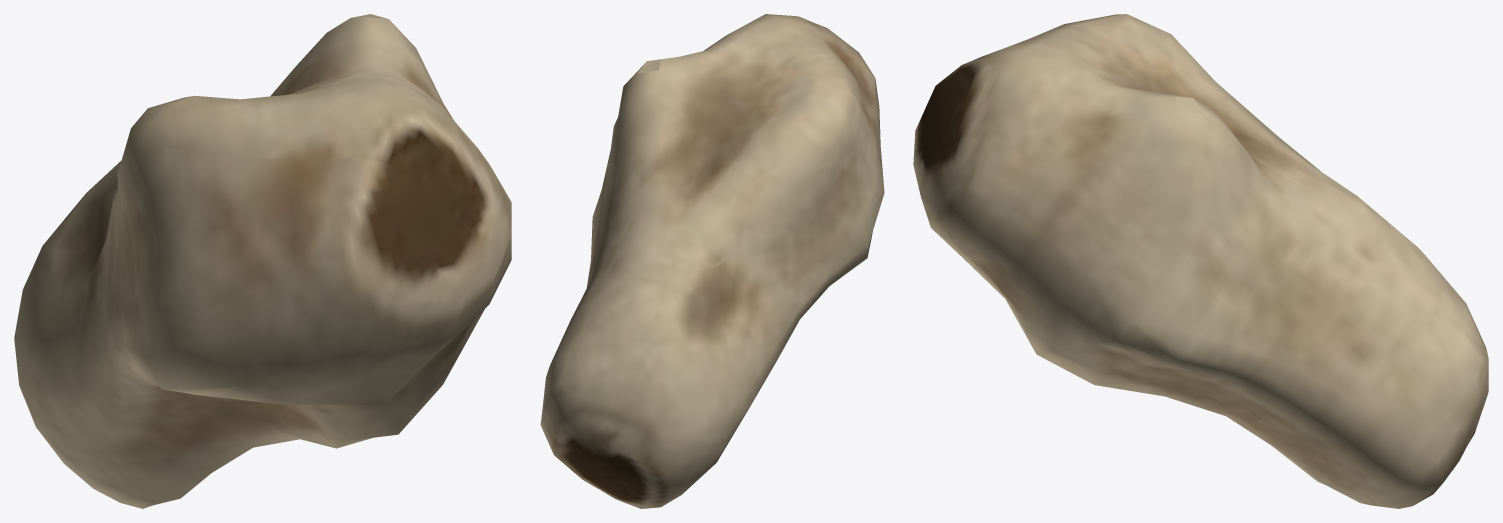
Rendered from Caudal_Vertebrae3.glb.
The picture shows the model from 3 angles, left to right: view 1: azimuth 30°, elevation 25°; view 2: azimuth 150°, elevation 25°; view 3: azimuth 270°, elevation 25°; orthographic projection. The views are drawn at different scales.
Visible parts, largest first — view 1: Caudal_Vertebrae_04; view 2: Caudal_Vertebrae_04; view 3: Caudal_Vertebrae_04.
Part boxes in pixels (bbox=[...]): Caudal_Vertebrae_04: bbox=[14, 14, 511, 508]; Caudal_Vertebrae_04: bbox=[540, 14, 884, 508]; Caudal_Vertebrae_04: bbox=[913, 14, 1488, 508].
Size of the model in its own units: 0.0238 by 0.0346 by 0.0394.
Materials: 1 (1 with a texture image).
